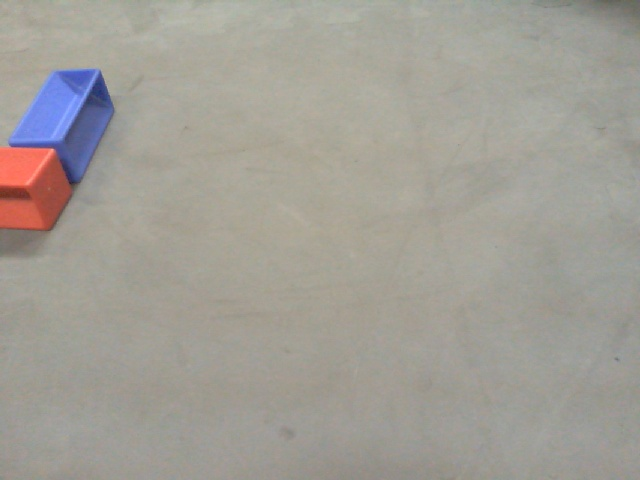BlueSample: (6, 60, 119, 181)
RedSample: (1, 148, 76, 236)
